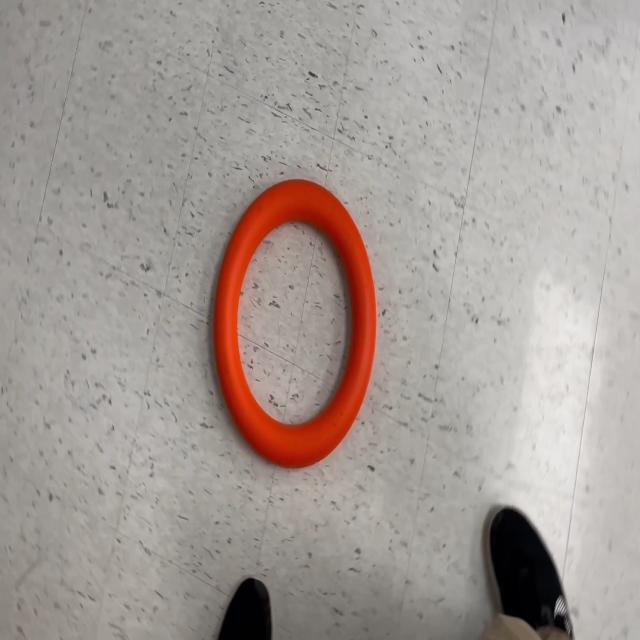note: (211, 178, 378, 471)
